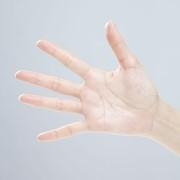pa-: (14, 19, 155, 143)
